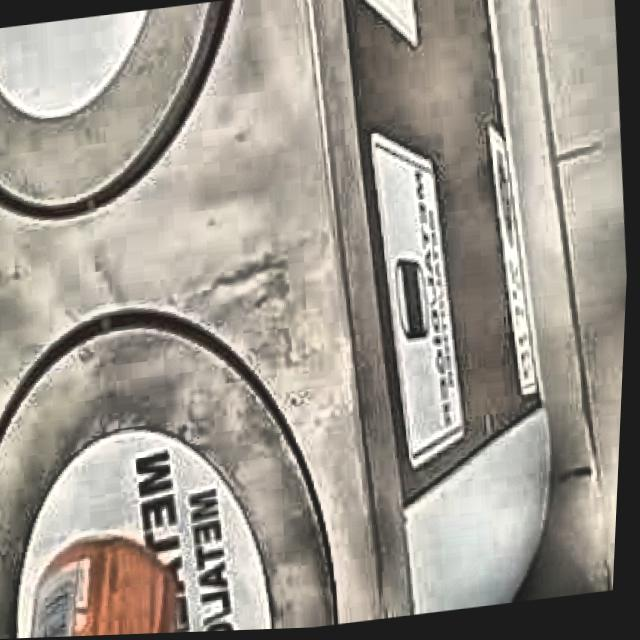metal: (36, 538, 182, 638)
